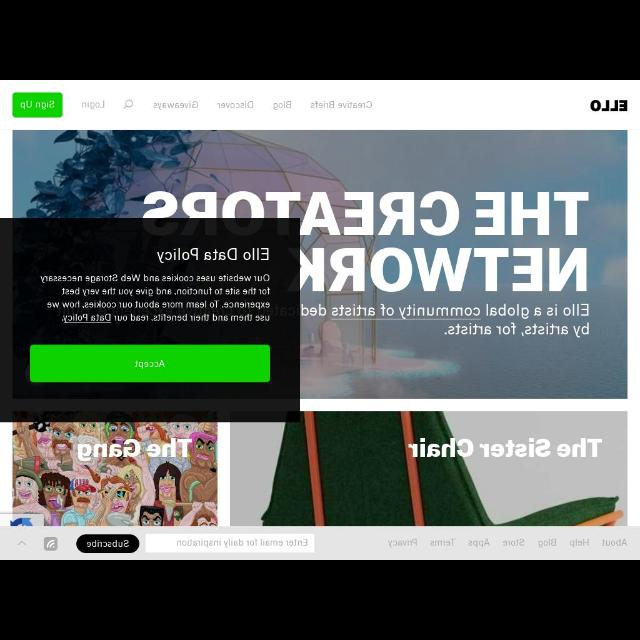icon: (42, 535, 58, 551), (122, 96, 134, 112), (15, 537, 27, 549)
iframe: (1, 218, 300, 422)
image: (11, 132, 627, 396), (229, 412, 626, 526), (12, 413, 216, 527), (588, 96, 630, 118)
input: (145, 534, 315, 552)
text: (38, 272, 274, 328), (154, 242, 270, 266), (174, 538, 310, 548), (308, 100, 374, 114), (84, 538, 132, 552), (19, 97, 57, 113), (150, 100, 200, 112), (214, 100, 256, 112), (132, 358, 168, 372), (269, 96, 295, 112), (385, 537, 419, 549), (464, 536, 492, 550), (534, 536, 560, 550), (600, 537, 628, 549), (429, 538, 456, 550), (502, 536, 526, 548), (80, 99, 106, 109), (568, 538, 590, 548)
textbutton: (29, 344, 270, 382), (12, 92, 62, 118), (75, 534, 141, 552)
toolbar: (5, 82, 640, 128), (1, 528, 639, 558)
